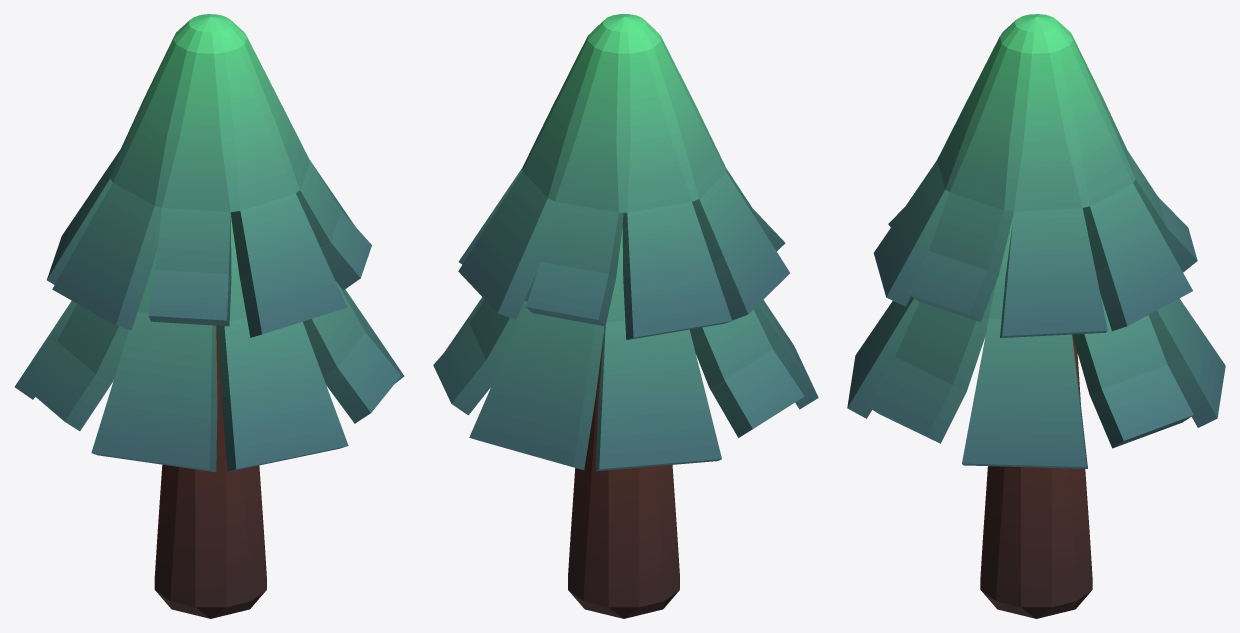
The model's file is kuusi3.fbx.
The picture shows the model from 3 angles, left to right: view 1: azimuth 30°, elevation 25°; view 2: azimuth 150°, elevation 25°; view 3: azimuth 270°, elevation 25°; orthographic projection.
Visible parts, largest first — view 1: Star.006; view 2: Star.006; view 3: Star.006.
Part boxes in pixels (left/top/right/bottom): Star.006: left=14, top=14, right=404, bottom=618; Star.006: left=433, top=14, right=818, bottom=618; Star.006: left=847, top=14, right=1225, bottom=618.
Size of the model in its own units: 0.578 by 0.9845 by 0.5796.
